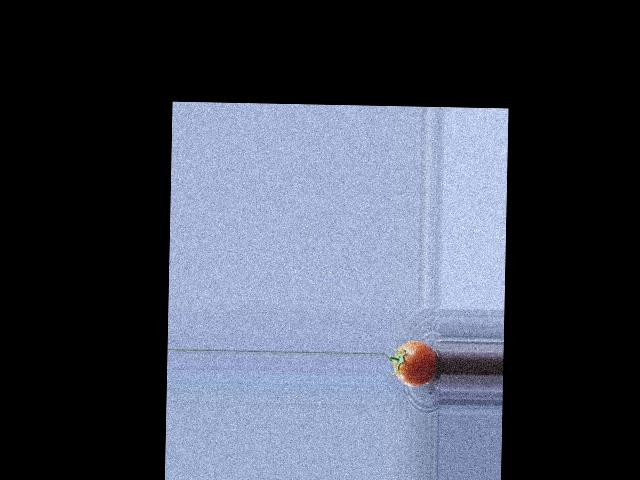tomato: (393, 340, 438, 387)
